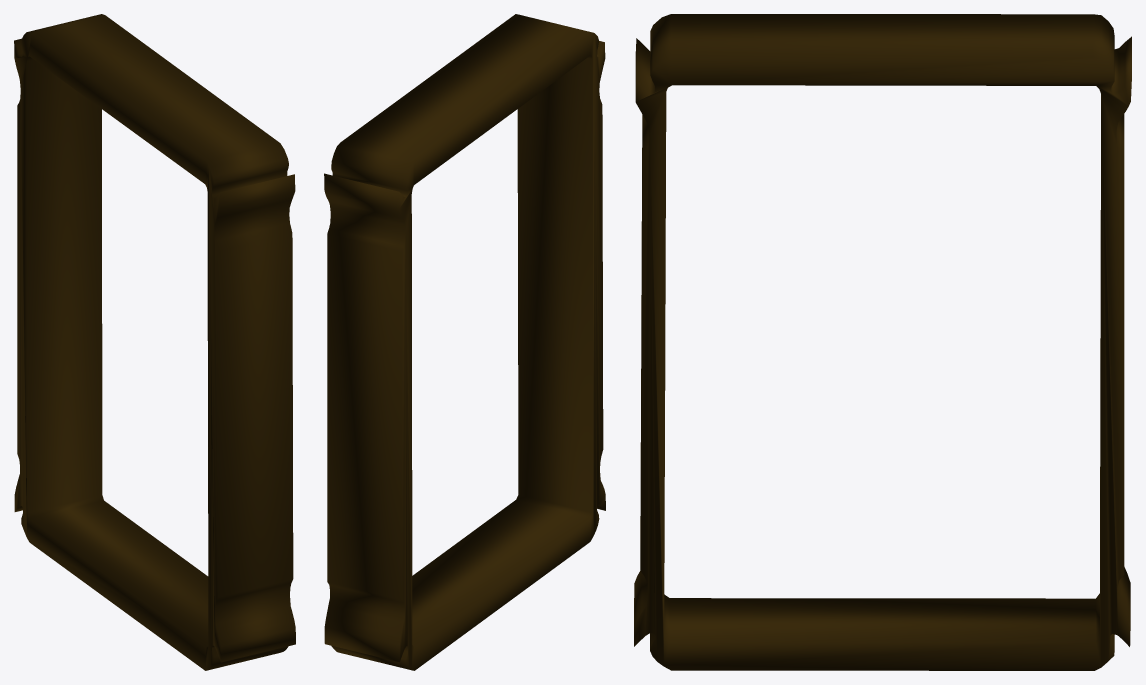
Rendered from 4thPodium.fbx.
3 renders of one model, left to right at view 1: azimuth 30°, elevation 25°; view 2: azimuth 150°, elevation 25°; view 3: azimuth 270°, elevation 25°, orthographic. The views are drawn at different scales.
Visible parts, largest first — view 1: Plane.004; view 2: Plane.004; view 3: Plane.004.
Part boxes in pixels (left/top/right/bottom): Plane.004: left=14, top=14, right=295, bottom=670; Plane.004: left=324, top=14, right=605, bottom=670; Plane.004: left=634, top=14, right=1131, bottom=670.
Size of the model in its own units: 43.44 by 282 by 208.
